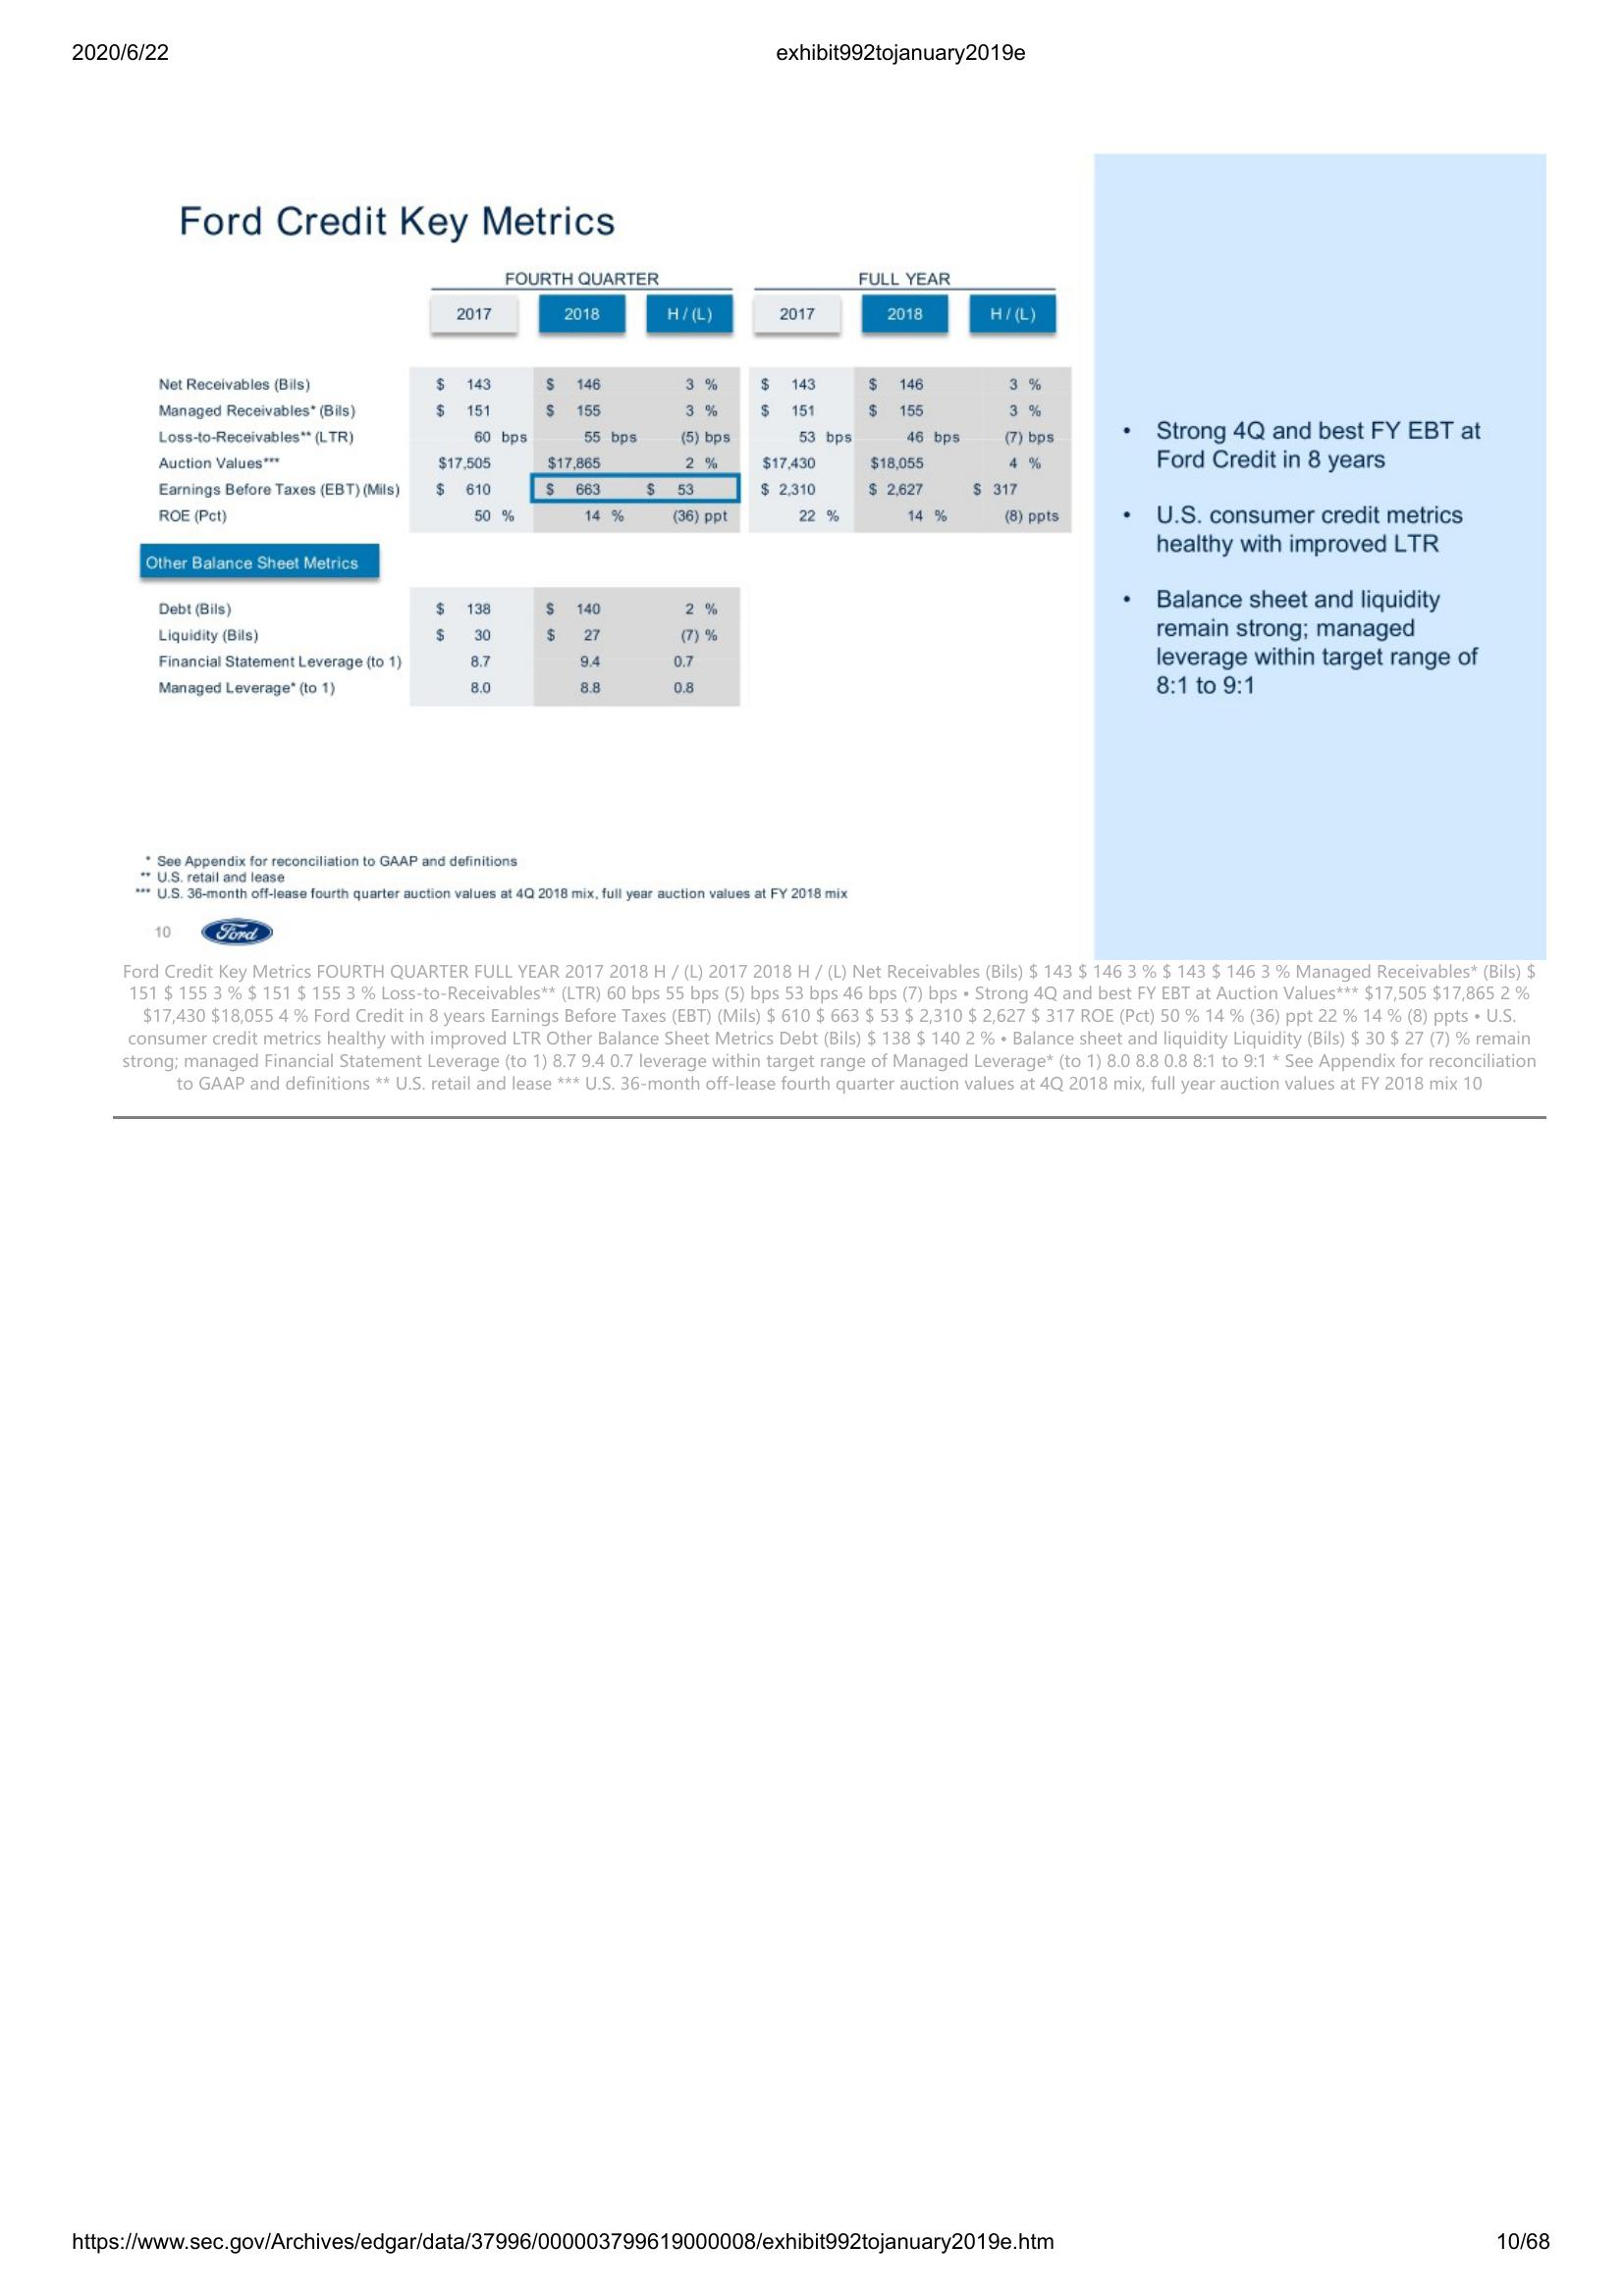table: (137, 267, 1078, 714)
